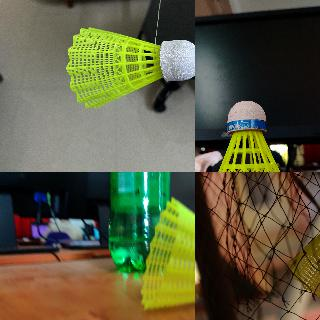shuttlecock: (66, 27, 194, 110), (200, 100, 301, 171), (141, 197, 194, 312), (289, 185, 319, 307)
